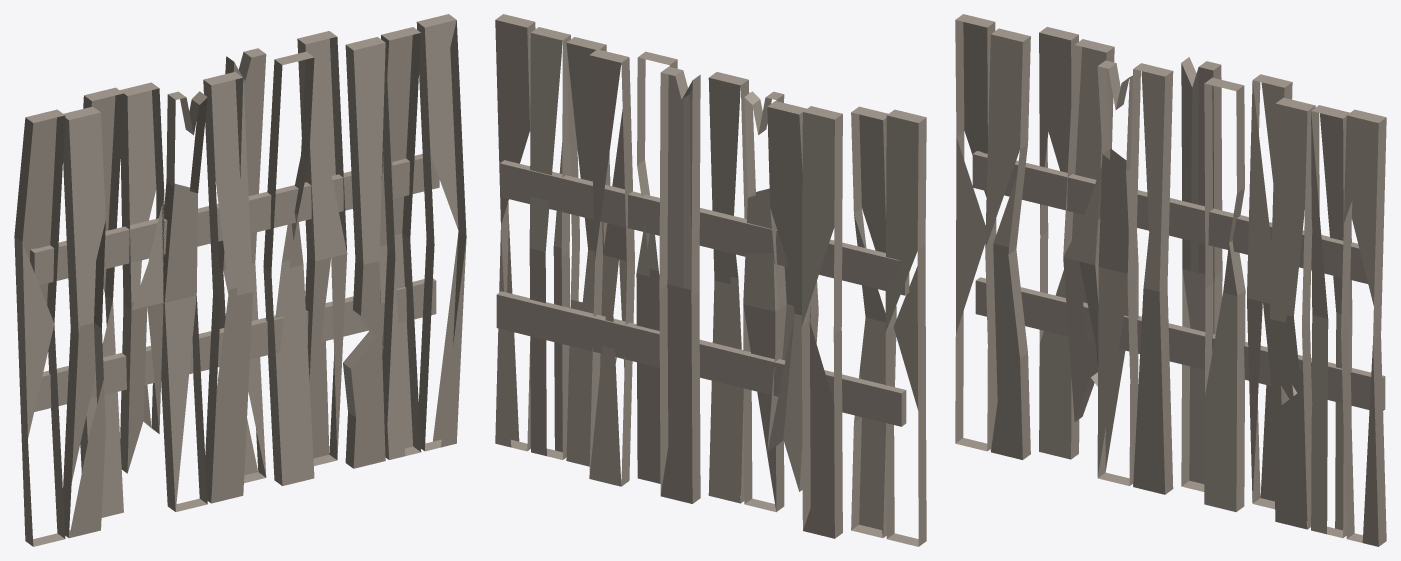
The model's file is fenceWhole.fbx.
The picture shows the model from 3 angles, left to right: view 1: azimuth 30°, elevation 25°; view 2: azimuth 150°, elevation 25°; view 3: azimuth 330°, elevation 25°; orthographic projection.
Visible parts, largest first — view 1: polySurface43; view 2: polySurface43; view 3: polySurface43.
Boxes of the visible parts, bbox=[...] form: polySurface43: bbox=[14, 14, 466, 546]; polySurface43: bbox=[495, 14, 926, 546]; polySurface43: bbox=[955, 14, 1386, 546].
Bounding box in the file's own units: 12.1 × 11.38 × 1.67.
